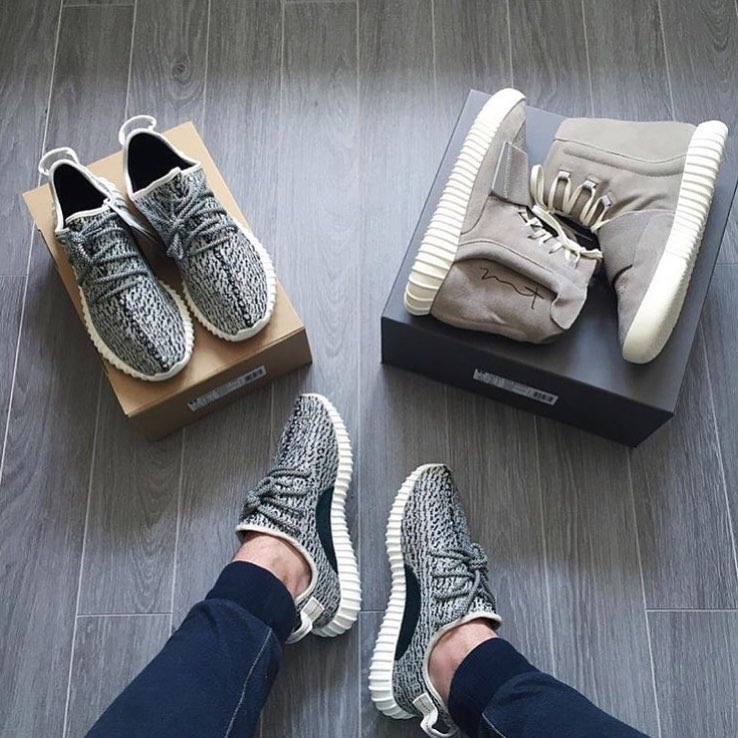sneaker: (198, 373, 387, 670), (334, 449, 525, 738)
